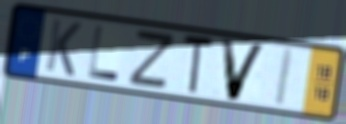I: (273, 47, 296, 109)
K: (42, 16, 84, 80)
L: (86, 23, 122, 84)
T: (181, 32, 216, 97)
V: (218, 36, 269, 103)
Z: (125, 29, 178, 92)
